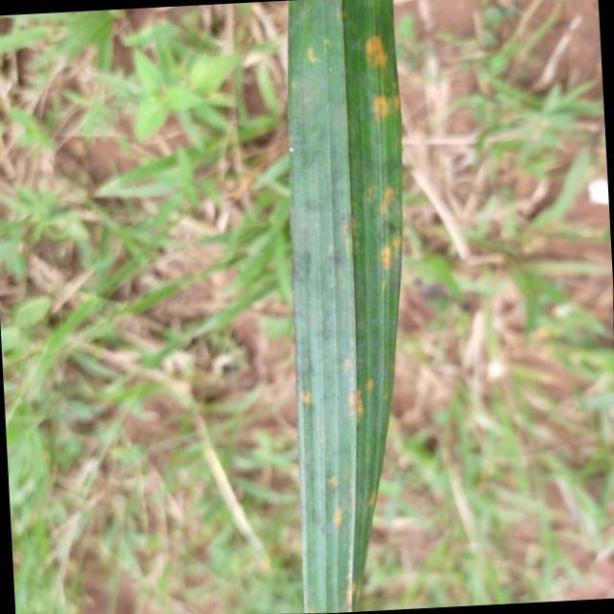Kalium: (284, 0, 405, 614)
